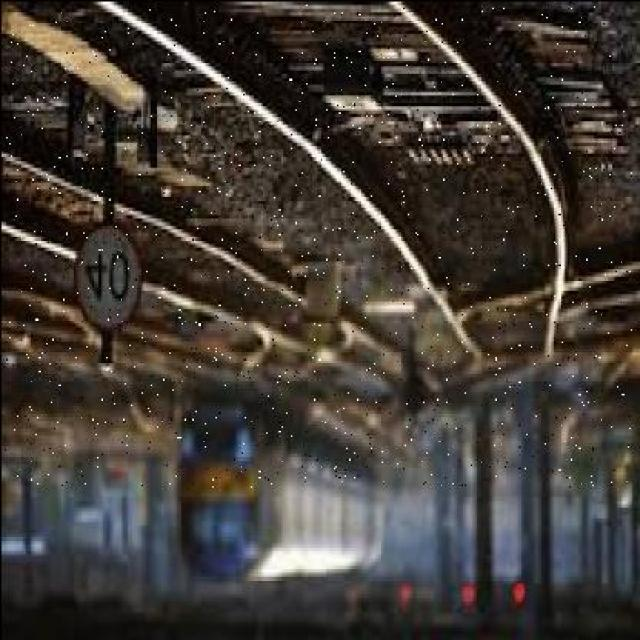rail: (2, 4, 632, 487)
